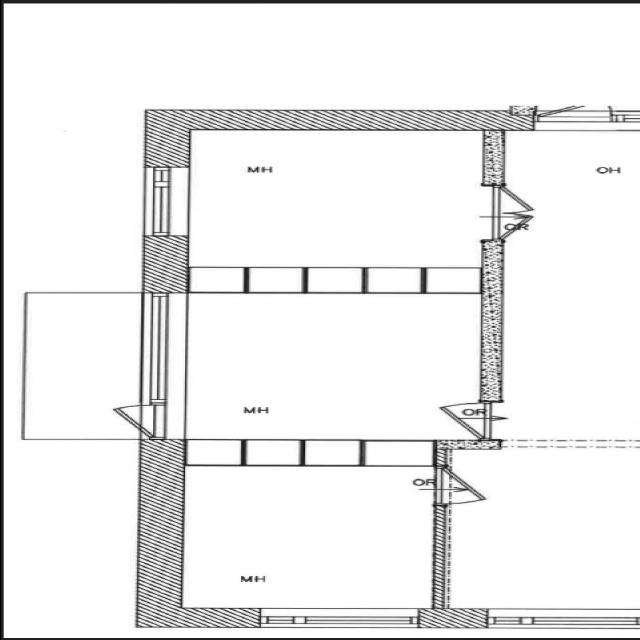door: (486, 182, 538, 243), (107, 400, 172, 436), (441, 403, 504, 439), (434, 468, 478, 508)
window: (238, 604, 430, 635), (471, 607, 640, 633), (508, 101, 640, 134), (140, 164, 196, 240)
